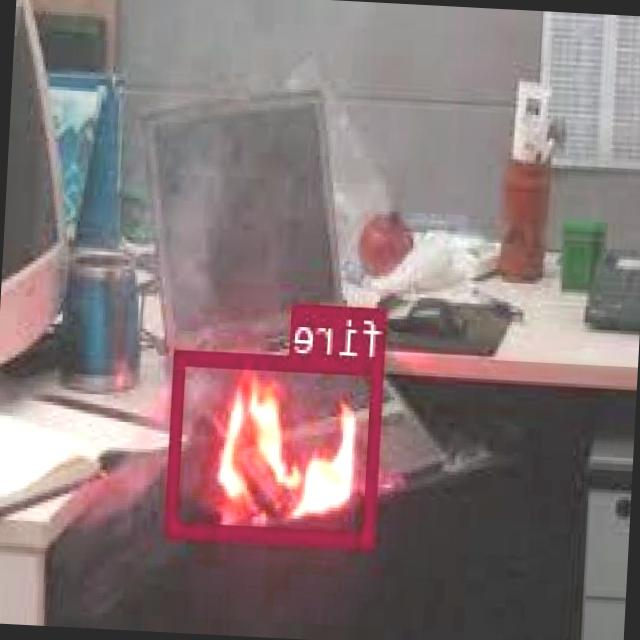fire: (168, 350, 386, 544)
